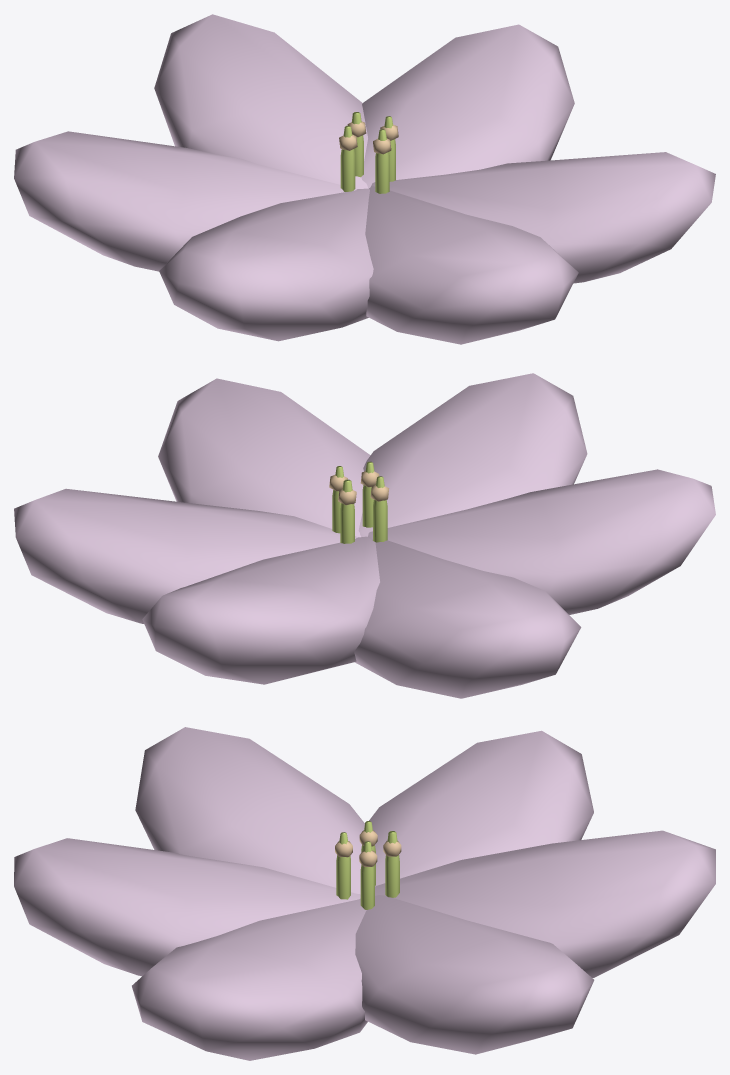
Rendered from fiorellino lowpoly 72.fbx.
3 renders of one model, top to bottom at view 1: azimuth 30°, elevation 25°; view 2: azimuth 150°, elevation 25°; view 3: azimuth 270°, elevation 25°, orthographic.
Visible parts, largest first — view 1: Icosphere.004, Cylinder.019, Icosphere.011; view 2: Icosphere.004, Cylinder.019, Icosphere.011; view 3: Icosphere.004, Cylinder.019, Icosphere.011.
Part boxes in pixels (x1,y1,x2,y2): Icosphere.004: (14, 14, 715, 344); Cylinder.019: (340, 112, 395, 193); Icosphere.011: (339, 121, 398, 154); Icosphere.004: (14, 373, 715, 698); Cylinder.019: (332, 461, 387, 543); Icosphere.011: (329, 471, 389, 505); Icosphere.004: (14, 727, 715, 1060); Cylinder.019: (336, 821, 399, 909); Icosphere.011: (335, 830, 401, 866).
Size of the model in its own units: 151 by 39.64 by 166.
